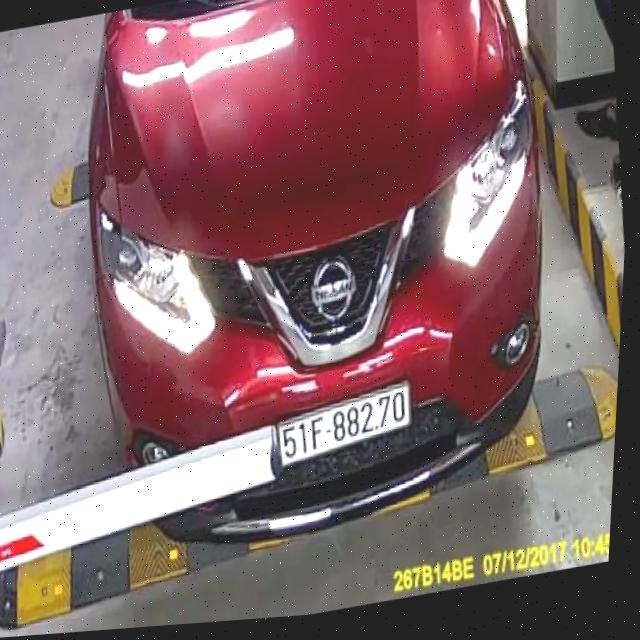car: (48, 0, 589, 574)
plate: (273, 378, 416, 468)
